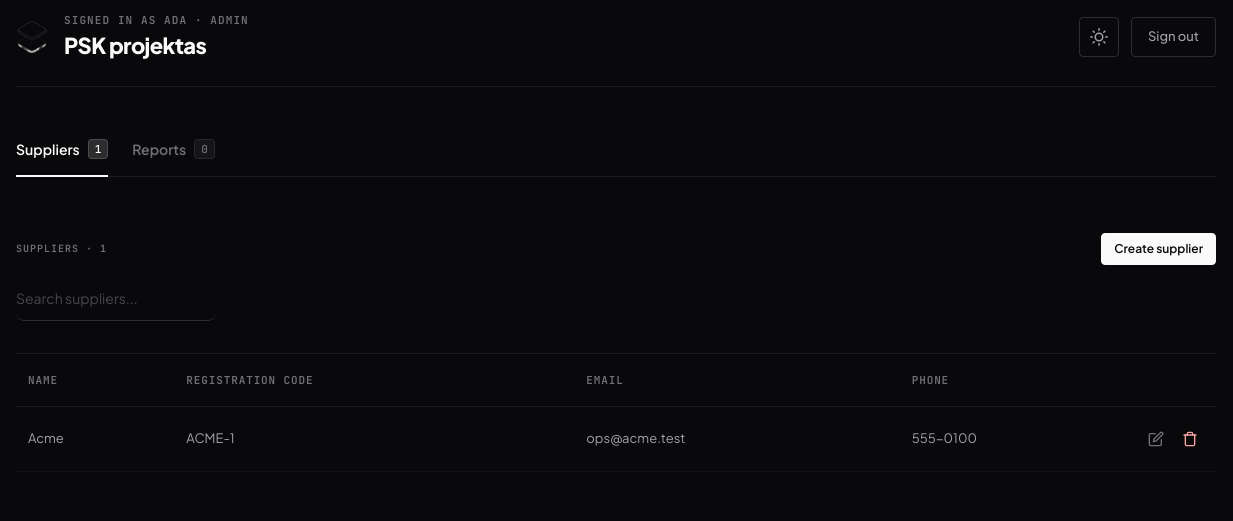
Scenario: Dashboard › filters resources by search query
The width and height of the screenshot is (1233, 521).
Expected: the button "Acme" is shown, [28,429,162,449]
Type "NonExistentData" into the field with placeholder "Search suppliers...". click: point(116, 298)
box: [16,276,216,320]
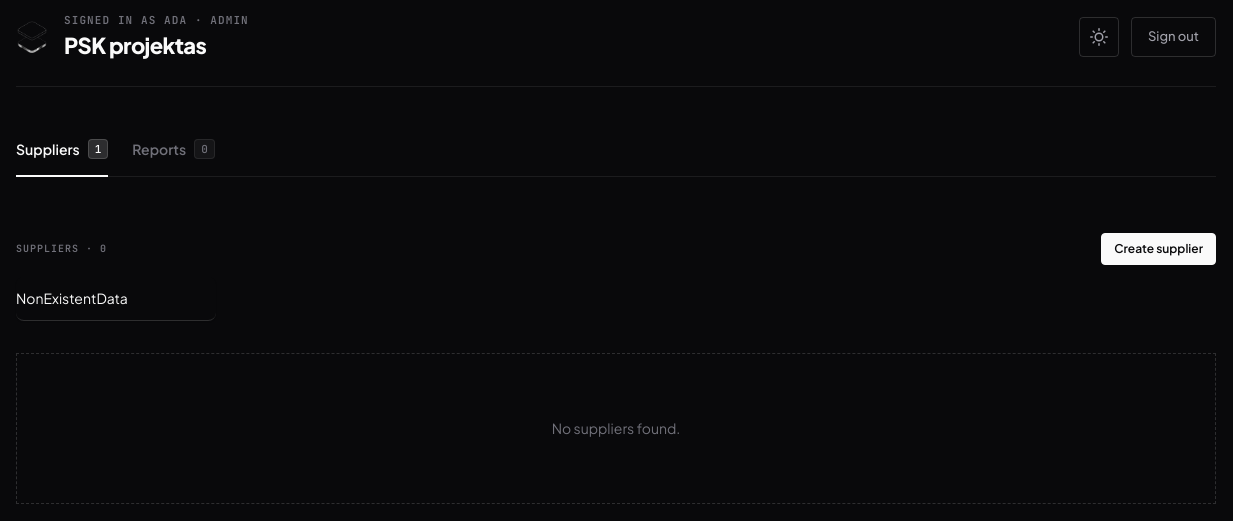
Result: the button "Acme" is gone
Replace the text in the field with placeholder "Search suppliers..." with "ACME". click: point(116, 298)
box: [16,276,216,320]
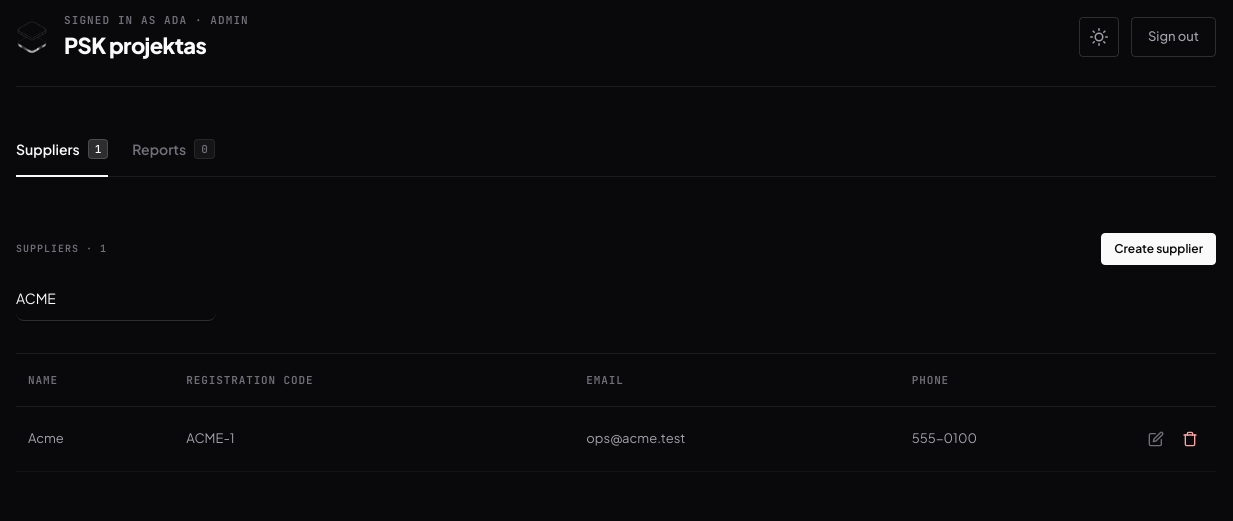
Result: the button "Acme" is shown at [28,429,162,449]
